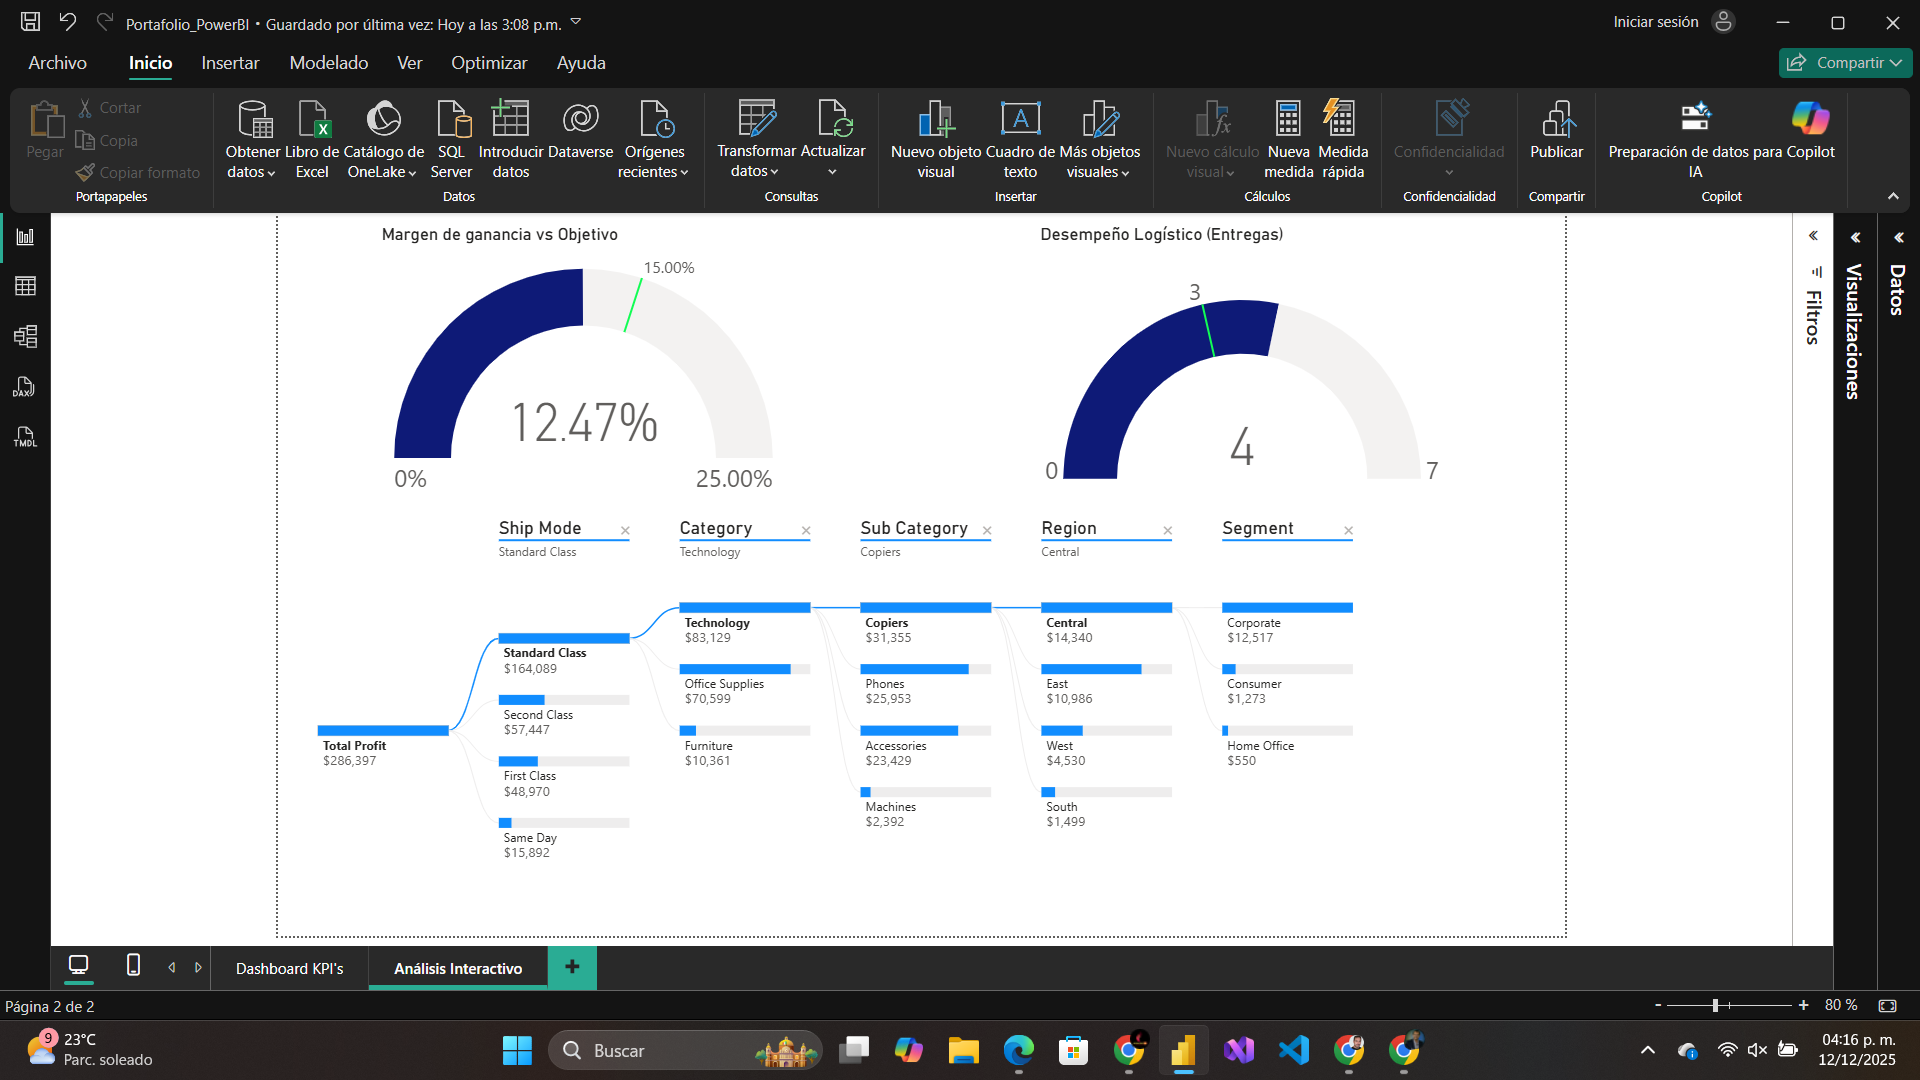

Layout of this report page (visuals, bound fields, positions):
{"tool":"powerbi","page":{"name":"Análisis Interactivo","canvas":[1280,720],"ordinal":1},"visuals":[{"type":"gauge","title":"Margen de ganancia vs Objetivo","fields":{"Y":["ecommerce_clean_bi.Profit Margin %"],"TargetValue":["ecommerce_clean_bi.Target Profit Margin"],"MinValue":["ecommerce_clean_bi.Min Profit Margin"],"MaxValue":["ecommerce_clean_bi.Max Profit MArgin"]},"box":[98.3,11.2,411.8,279.9],"z":0},{"type":"gauge","title":"Desempeño Logístico (Entregas)","fields":{"Y":["ecommerce_clean_bi.Avg Delivery Days"],"MinValue":["ecommerce_clean_bi.Entrega Minima"],"MaxValue":["ecommerce_clean_bi.Entrega Maxima"],"TargetValue":["ecommerce_clean_bi.Valor Destino"]},"box":[753.8,11.2,411.8,279.9],"z":1000},{"type":"decompositionTreeVisual","fields":{"Analyze":["ecommerce_clean_bi.Total Profit"],"ExplainBy":["ecommerce_clean_bi.Ship Mode","ecommerce_clean_bi.Category","ecommerce_clean_bi.Sub Category","ecommerce_clean_bi.Region","ecommerce_clean_bi.Segment"]},"box":[10,289.8,1270.1,430.4],"z":2000}]}

Visuals, with their boxes on the page's 1280x720 design canvas (x1, y1, x2, y2). These are canvas units, not pixel positions in the 1920x1080 screenshot, which may show the page scaled, cropped or inside an application window:
"Margen de ganancia vs Objetivo" gauge: box(98, 11, 510, 291)
"Desempeño Logístico (Entregas)" gauge: box(754, 11, 1166, 291)
decompositionTreeVisual - ecommerce_clean_bi.Total Profit x ecommerce_clean_bi.Ship Mode: box(10, 290, 1280, 720)
